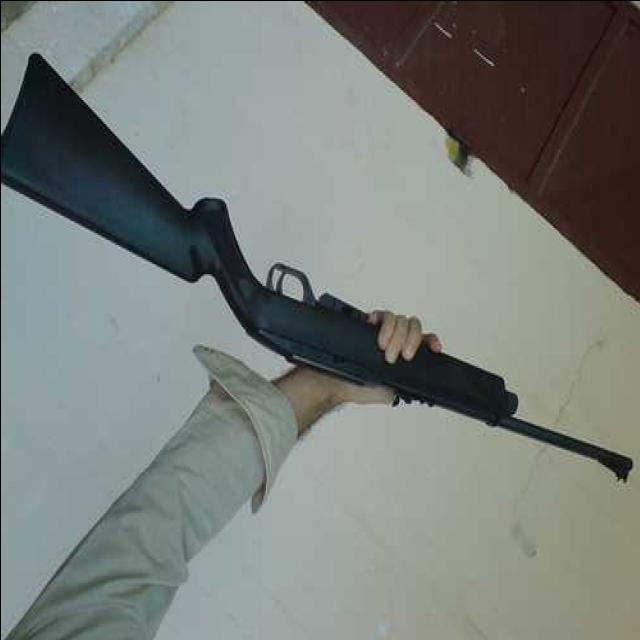heavyweapon: (1, 42, 635, 501)
